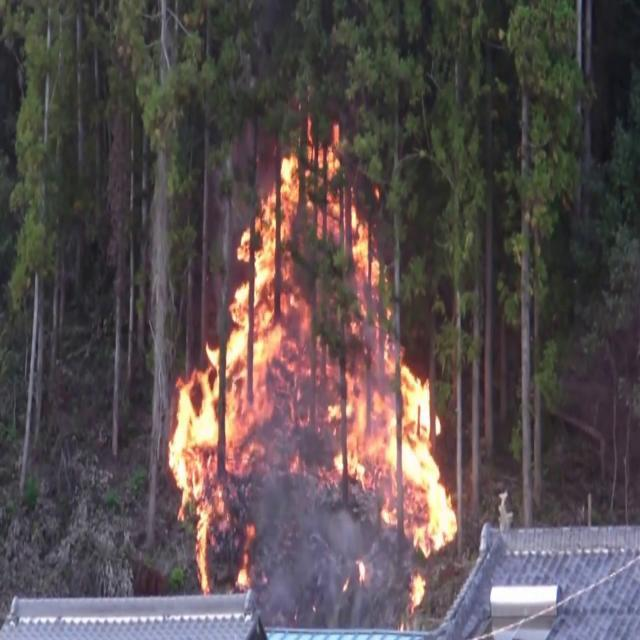Fire: (168, 115, 458, 608)
